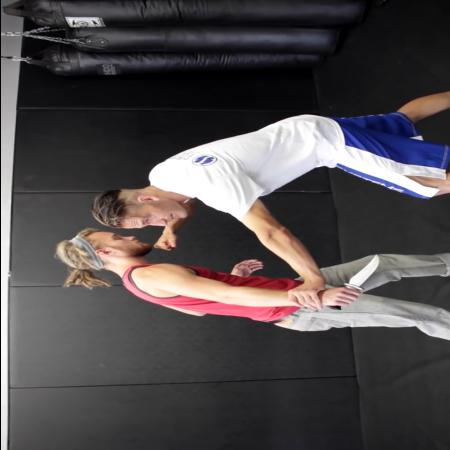long weapon: (322, 249, 388, 312)
